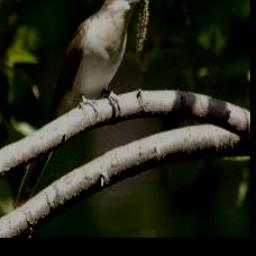Cuckoo: (16, 0, 145, 210)
